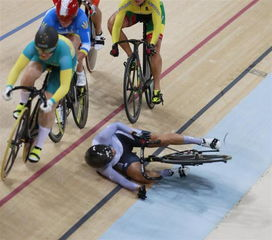fall: (76, 111, 223, 200)
